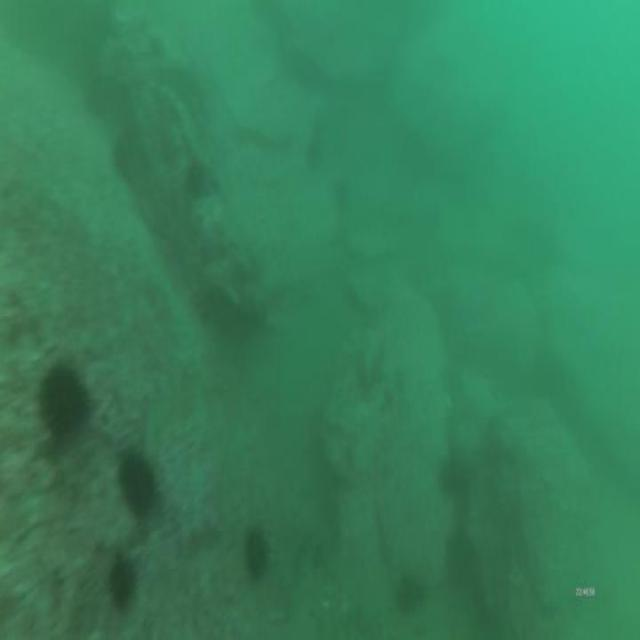echinus: (33, 356, 90, 444), (115, 442, 161, 526), (102, 553, 140, 616), (109, 128, 142, 186), (241, 522, 271, 584), (394, 566, 426, 622), (436, 454, 471, 504), (443, 526, 473, 570), (184, 158, 210, 204), (328, 172, 352, 216), (302, 138, 322, 176)
